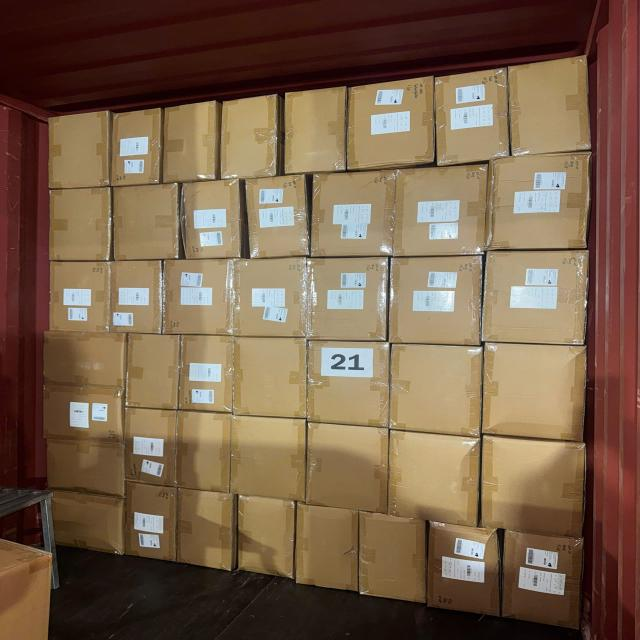Carton: (486, 432, 592, 534), (481, 342, 587, 439), (485, 247, 592, 343), (492, 154, 594, 252), (388, 429, 480, 528), (389, 342, 484, 436), (394, 164, 488, 257), (503, 528, 588, 630), (388, 254, 483, 344), (345, 80, 434, 171), (511, 54, 590, 154), (307, 423, 389, 516), (310, 170, 396, 258), (308, 342, 392, 426), (433, 73, 507, 168), (426, 523, 498, 618), (309, 256, 388, 342), (232, 414, 310, 501), (357, 512, 427, 607), (236, 336, 310, 420), (232, 256, 307, 338), (294, 504, 358, 596), (246, 176, 311, 261), (284, 91, 346, 177), (166, 260, 234, 338), (114, 184, 181, 261), (223, 95, 282, 180), (236, 497, 294, 583), (180, 487, 238, 571), (47, 490, 123, 554), (182, 182, 242, 262), (49, 110, 110, 188), (41, 332, 125, 388), (50, 185, 112, 260), (164, 102, 221, 183), (45, 442, 126, 499), (179, 411, 233, 496), (51, 262, 112, 336), (123, 479, 175, 563), (124, 409, 177, 490), (44, 390, 126, 442), (180, 332, 233, 412), (126, 331, 180, 408), (112, 108, 163, 186), (112, 259, 164, 334)
